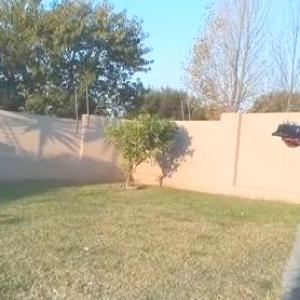follow: (265, 0, 299, 299)
